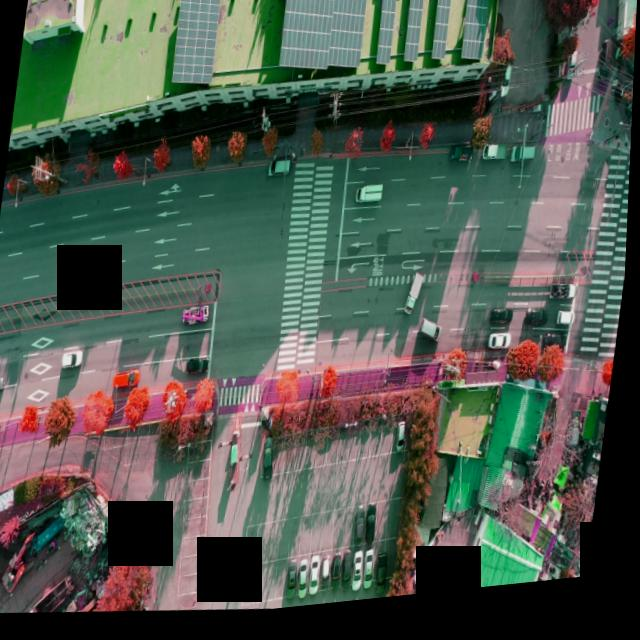car: (368, 504, 386, 554), (509, 149, 539, 176), (543, 340, 573, 362), (498, 69, 515, 106), (526, 315, 552, 338), (114, 374, 142, 395), (356, 513, 370, 552), (379, 559, 392, 599), (270, 163, 293, 185), (264, 442, 278, 478), (344, 557, 357, 595), (492, 317, 516, 337), (358, 557, 370, 596), (301, 565, 313, 603), (368, 559, 380, 597), (313, 563, 325, 601), (293, 563, 305, 601), (65, 350, 86, 370), (335, 558, 347, 592), (189, 358, 210, 377), (491, 344, 513, 362), (324, 561, 335, 593), (398, 429, 409, 459), (568, 62, 580, 89), (0, 377, 5, 394), (535, 0, 549, 5), (609, 0, 620, 4)
medium_truck: (31, 568, 81, 618)
small_truck: (354, 186, 387, 215), (597, 49, 615, 97), (406, 281, 426, 322), (550, 289, 582, 314), (182, 307, 212, 332), (422, 324, 445, 352), (450, 152, 476, 174), (483, 155, 510, 176), (558, 321, 577, 338)
